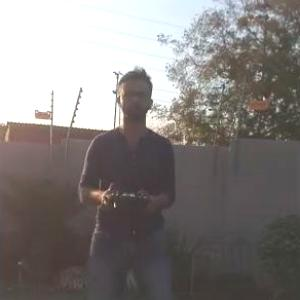follow: (71, 61, 182, 299)
